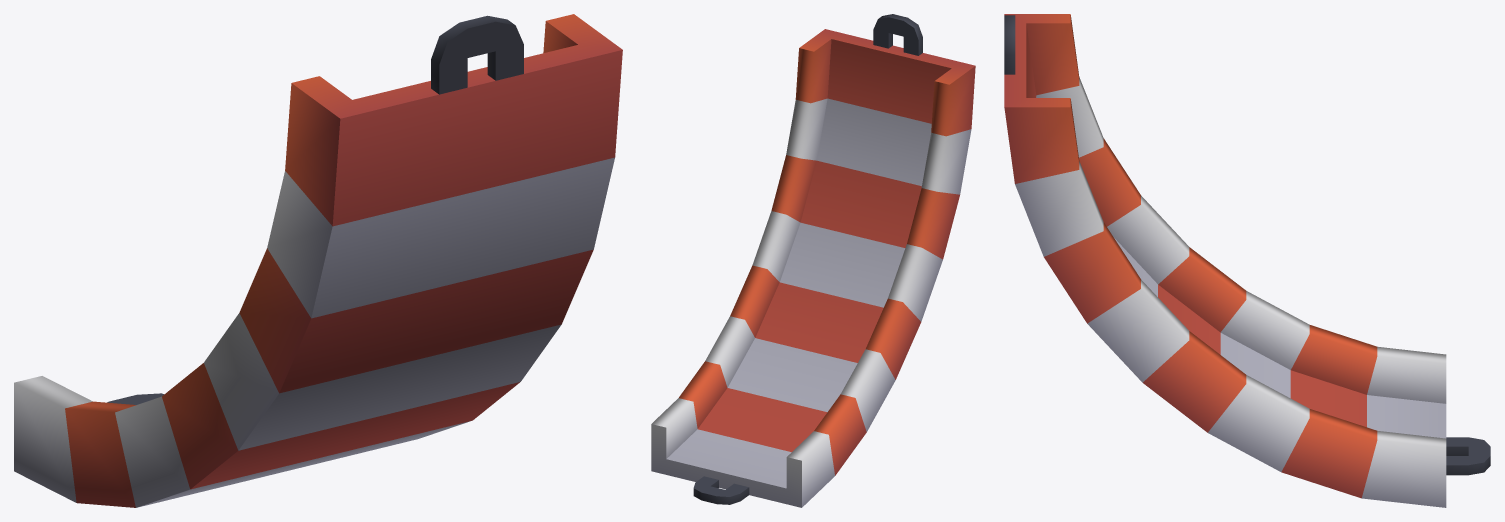
File: track-striped-narrow-straight-bend.glb
The picture shows the model from 3 angles, left to right: view 1: azimuth 30°, elevation 25°; view 2: azimuth 150°, elevation 25°; view 3: azimuth 270°, elevation 25°; orthographic projection. The views are drawn at different scales.
Visible parts, largest first — view 1: track-striped-narrow-straight-bend; view 2: track-striped-narrow-straight-bend; view 3: track-striped-narrow-straight-bend.
Part boxes in pixels (left/top/right/bottom): track-striped-narrow-straight-bend: left=14, top=14, right=622, bottom=507; track-striped-narrow-straight-bend: left=651, top=14, right=975, bottom=507; track-striped-narrow-straight-bend: left=1004, top=14, right=1490, bottom=507.
Bounding box in the file's own units: 1 × 2.2 × 2.2.
